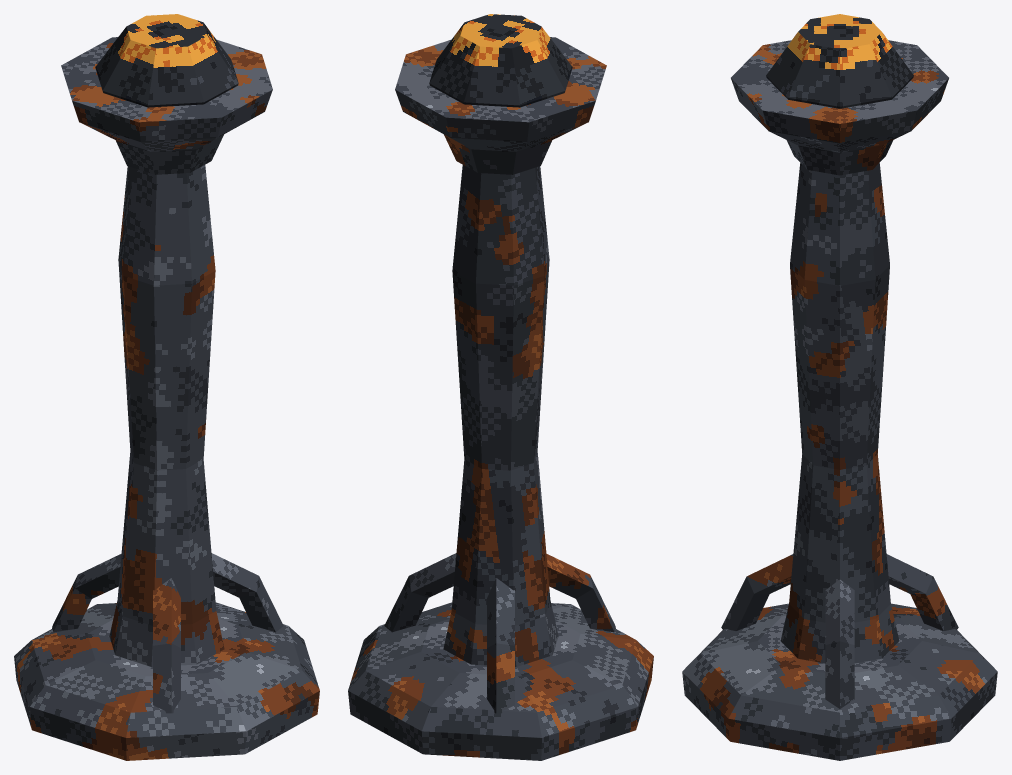
The model's file is SM_Light_FloorTorchStand_01.glb.
The picture shows the model from 3 angles, left to right: view 1: azimuth 30°, elevation 25°; view 2: azimuth 150°, elevation 25°; view 3: azimuth 270°, elevation 25°; orthographic projection.
Visible parts, largest first — view 1: shaft, base, cup, head, brace_1, brace_0, brace_2; view 2: shaft, base, cup, head, brace_2, brace_0, brace_1; view 3: shaft, base, cup, head, brace_0, brace_1, brace_2.
Boxes of the visible parts, left/top/right/bottom form: shaft: left=109, top=165, right=224, bottom=666; base: left=14, top=602, right=319, bottom=760; cup: left=61, top=37, right=272, bottom=174; head: left=95, top=14, right=238, bottom=107; brace_1: left=153, top=578, right=180, bottom=713; brace_0: left=211, top=553, right=283, bottom=632; brace_2: left=52, top=553, right=121, bottom=632; shaft: left=443, top=165, right=558, bottom=666; base: left=348, top=602, right=653, bottom=760; cup: left=395, top=37, right=606, bottom=174; head: left=429, top=14, right=572, bottom=107; brace_2: left=487, top=578, right=514, bottom=713; brace_0: left=384, top=553, right=456, bottom=632; brace_1: left=546, top=553, right=615, bottom=632; shaft: left=780, top=163, right=899, bottom=663; base: left=682, top=603, right=997, bottom=760; cup: left=731, top=40, right=948, bottom=175; head: left=766, top=14, right=913, bottom=108; brace_0: left=825, top=580, right=854, bottom=708; brace_1: left=721, top=554, right=793, bottom=630; brace_2: left=886, top=554, right=958, bottom=630.
Size of the model in its own units: 0.384 by 0.891 by 0.384.
1 material, 1 textured.
